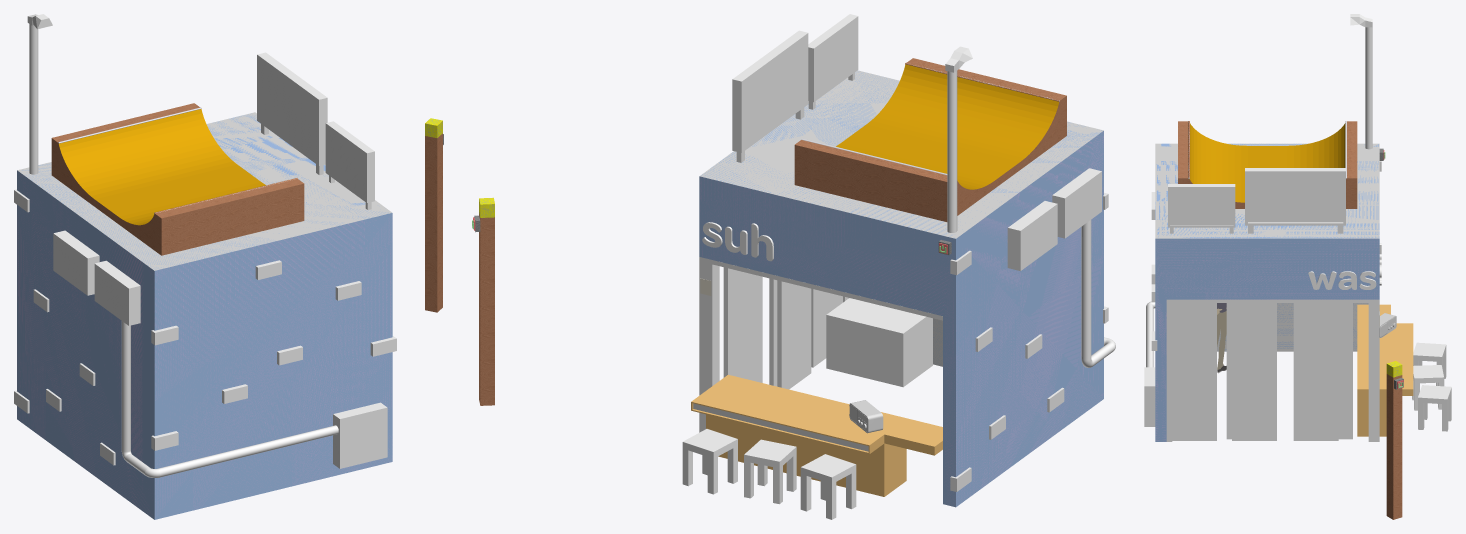
The model's file is hut6.glb.
3 renders of one model, left to right at view 1: azimuth 30°, elevation 25°; view 2: azimuth 150°, elevation 25°; view 3: azimuth 270°, elevation 25°, orthographic. The views are drawn at different scales.
Parts seen in each view (by area): view 1: group_39.001, group_61.002, group_39.002, group_61.001, group_41, group_24, group_55, group_26, group_63, group_27, group_25, group_22; view 2: group_39.001, group_61.002, group_39.002, group_59, group_61.001, group_67, group_41, group_37, group_32, group_63, group_55, group_35 (+12 smaller); view 3: group_39.001, group_39.002, group_31, group_29, group_34, group_61.002, group_41.001, group_44, group_59, group_66, group_55, group_37 (+16 smaller).
Part boxes in pixels (x1,y1,x2,y2): group_39.001: (17,170,392,519); group_61.002: (59,109,265,225); group_39.002: (17,112,392,270); group_61.001: (51,103,304,255); group_41: (257,52,327,165); group_24: (121,321,338,477); group_55: (425,133,442,312); group_26: (333,402,387,468); group_63: (325,121,374,202); group_27: (94,260,140,325); group_25: (53,230,99,295); group_22: (29,24,38,174); group_39.001: (699,131,1103,507); group_61.002: (836,64,1059,189); group_39.002: (700,70,1103,238); group_59: (691,374,906,496); group_61.001: (794,58,1066,221); group_67: (826,298,932,387); group_41: (732,30,808,152); group_37: (723,267,757,381); group_32: (777,280,811,389); group_63: (808,14,858,102); group_55: (479,212,494,405); group_35: (699,257,719,432); group_39.001: (1155,238,1379,441); group_39.002: (1155,143,1379,238); group_31: (1293,303,1338,440); group_29: (1172,303,1216,440); group_34: (1232,303,1276,440); group_61.002: (1189,123,1345,202); group_41.001: (1248,173,1343,223); group_44: (1248,173,1343,222); group_59: (1357,323,1413,436); group_66: (1170,189,1233,225); group_55: (1386,374,1402,519); group_37: (1338,303,1352,439).
Size of the model in its own units: 5.75 by 5.03 by 4.18.
Materials: 24 (5 with a texture image).
